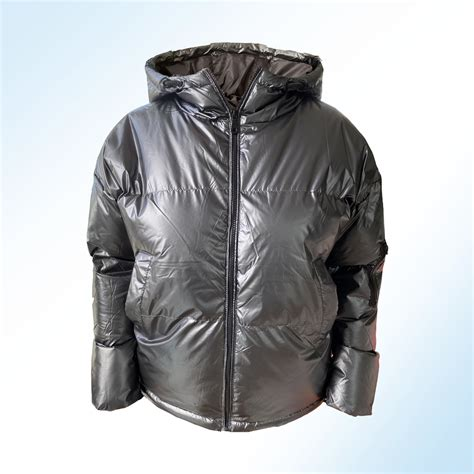nylon: (89, 44, 388, 433)
